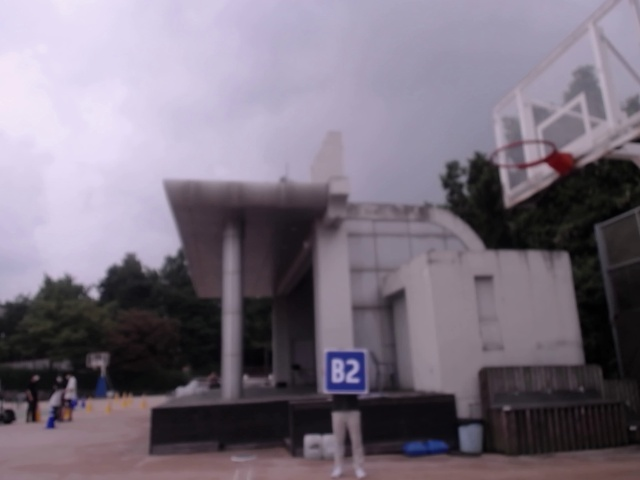delivery_b2: (323, 350, 367, 392)
